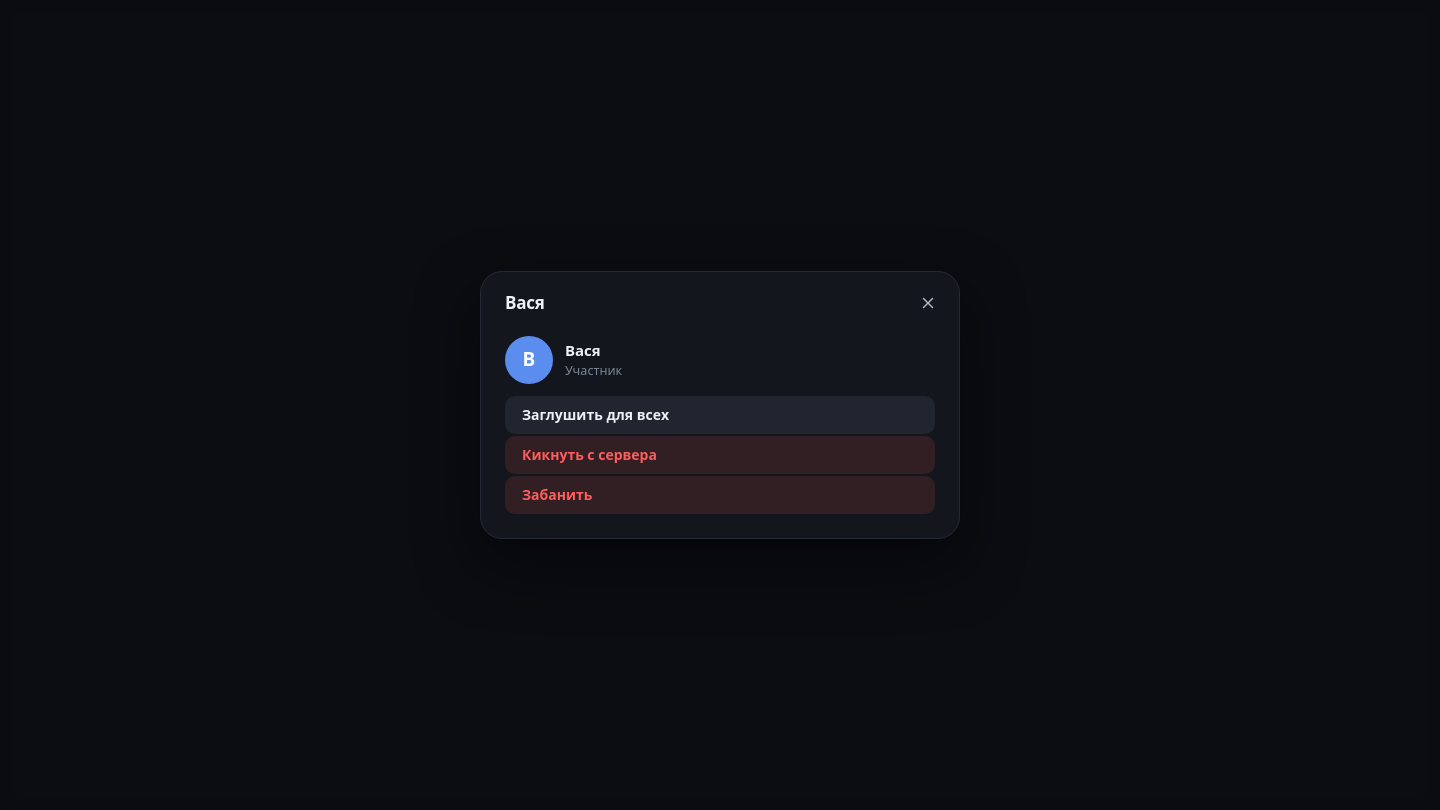
person menu › kick dialog uploads the chosen GIF and sends the reason
Later steps or results of the test are not shown.
Click the button "Кикнуть с сервера" at coordinates (589, 454), box [505,436,935,474]
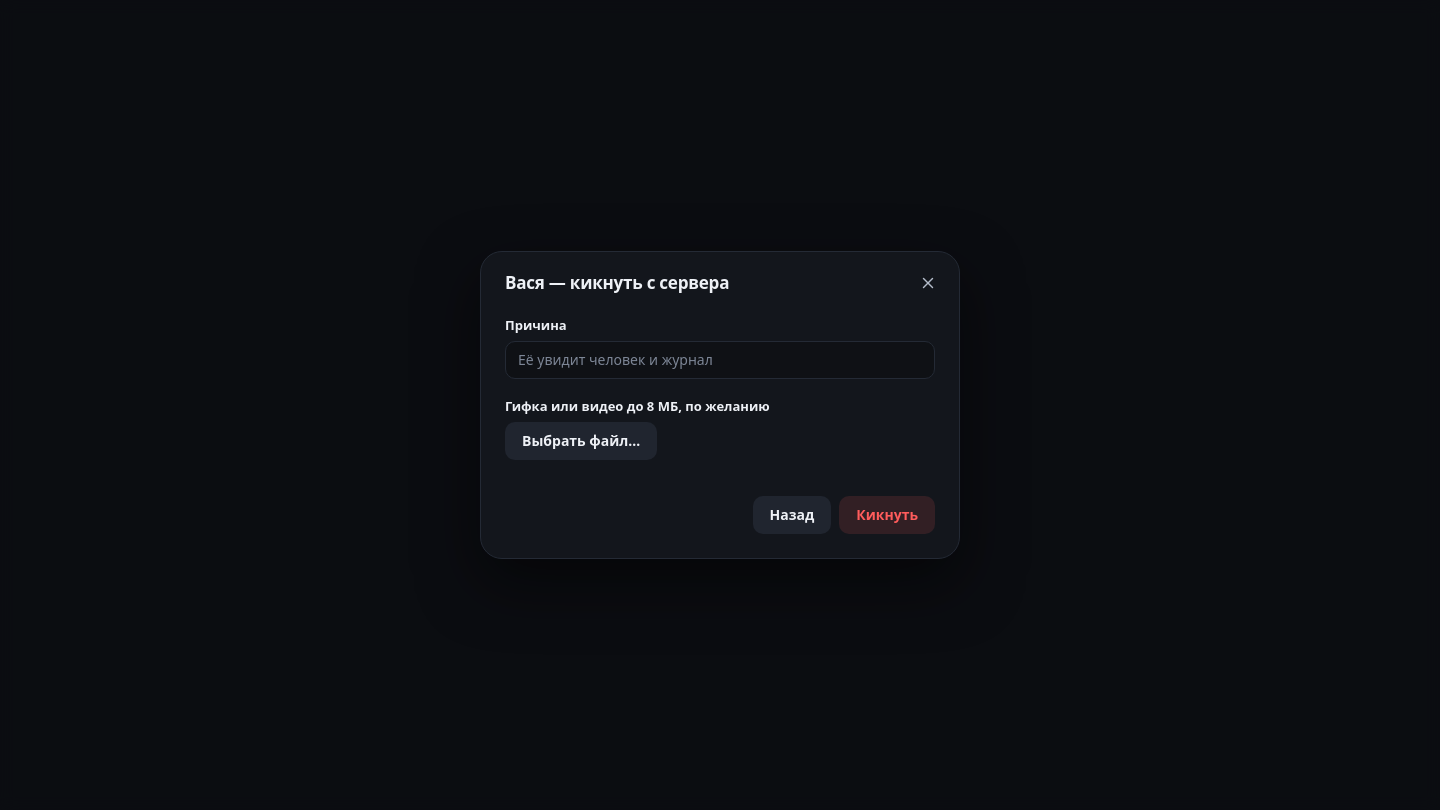
Type "Хватит" into the field labelled "Причина" at coordinates (720, 360), box [505,341,935,379]
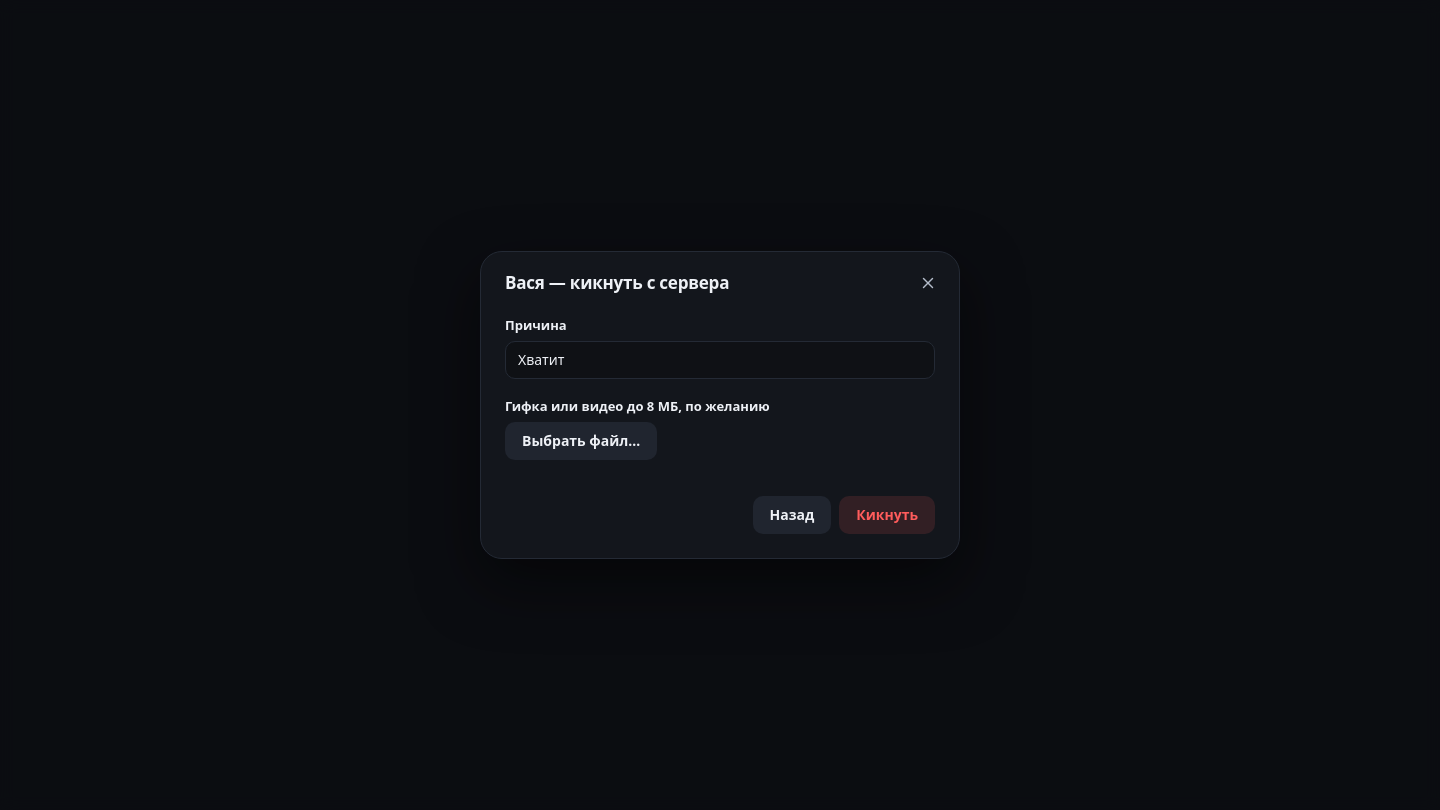
Click the button "Выбрать файл…" at coordinates (581, 441), box [505,422,657,460]
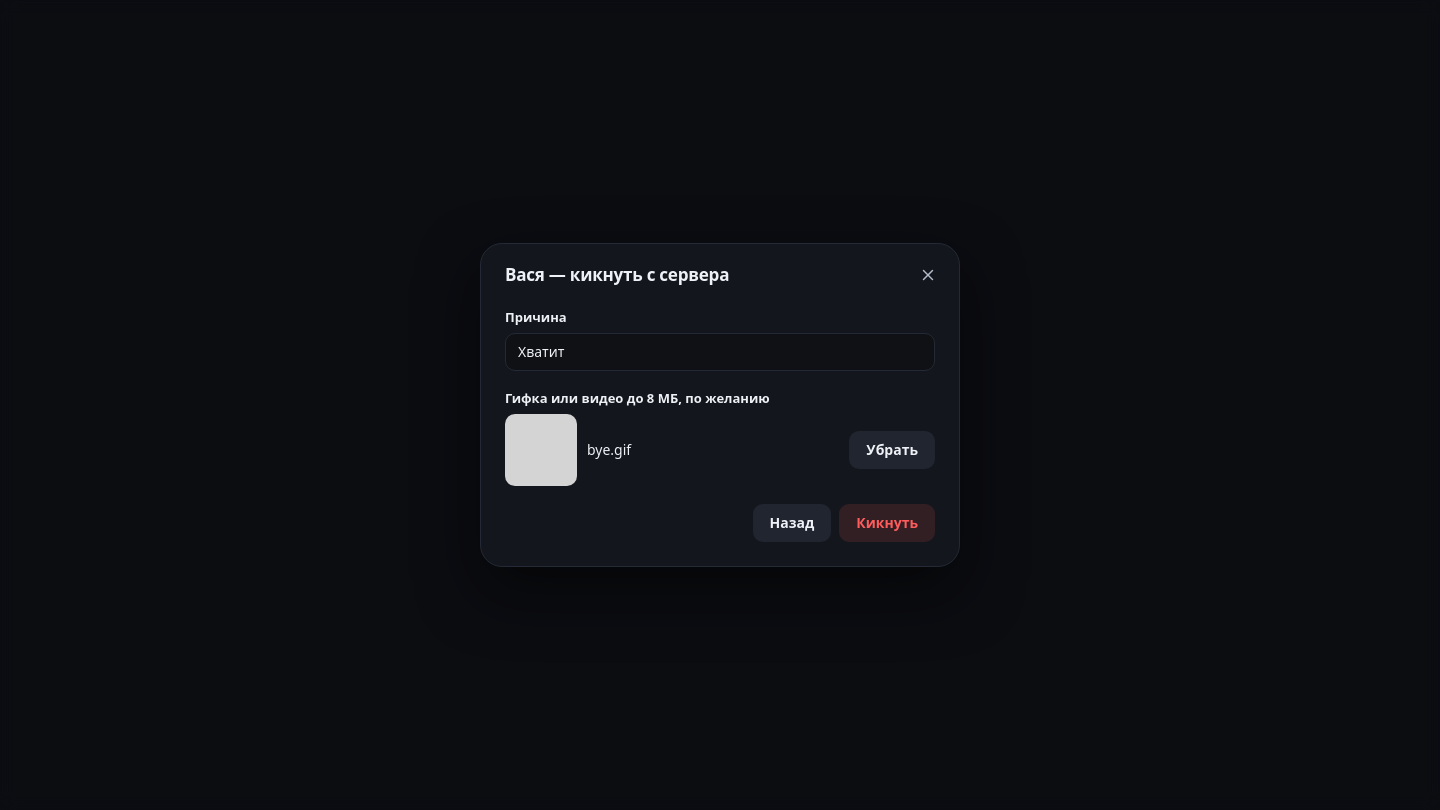
Expected: the text "bye.gif" is shown, [587,440,631,459]
